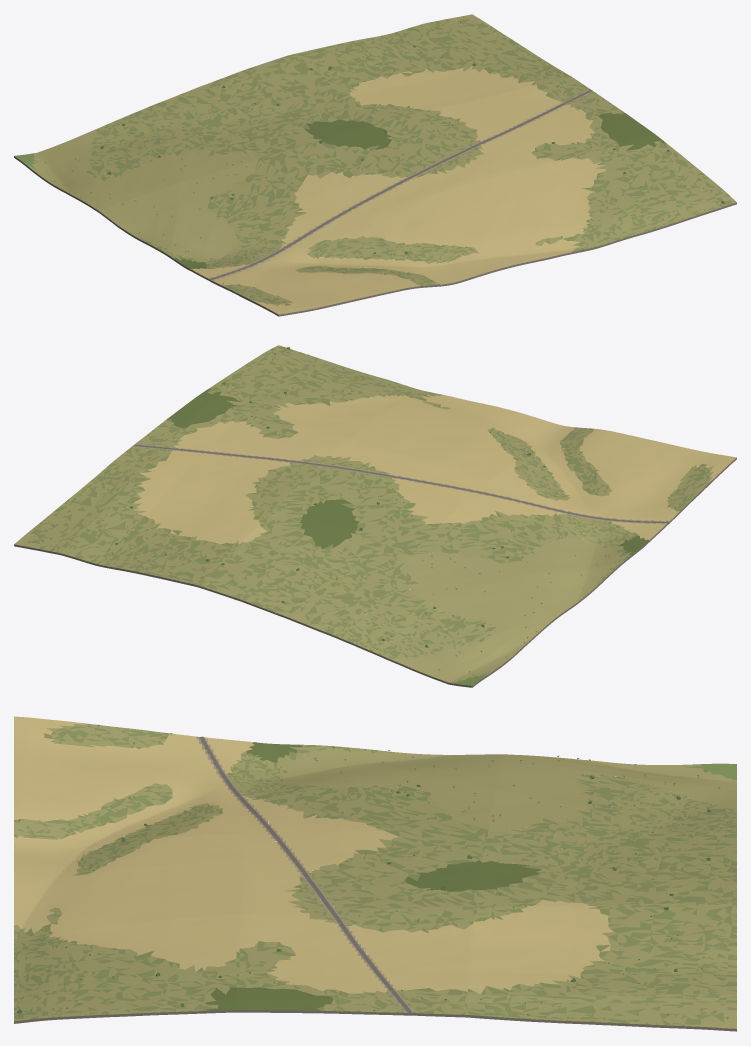
Rendered from parca_+1_-2-yakin.glb.
3 views of the same model, one above another, from view 1: azimuth 30°, elevation 25°; view 2: azimuth 150°, elevation 25°; view 3: azimuth 270°, elevation 25° (orthographic). The views are drawn at different scales.
Parts seen in each view (by area): view 1: parca_+1_-2_arazi, parca_+1_-2_yollar, parca_+1_-2_bitkiler; view 2: parca_+1_-2_arazi, parca_+1_-2_yollar, parca_+1_-2_bitkiler; view 3: parca_+1_-2_arazi, parca_+1_-2_yollar, parca_+1_-2_bitkiler.
Part boxes in pixels (<box>): parca_+1_-2_arazi: <box>14,14,736,316</box>; parca_+1_-2_yollar: <box>209,89,592,279</box>; parca_+1_-2_bitkiler: <box>35,17,724,296</box>; parca_+1_-2_arazi: <box>14,345,736,687</box>; parca_+1_-2_yollar: <box>133,444,668,523</box>; parca_+1_-2_bitkiler: <box>28,347,703,675</box>; parca_+1_-2_arazi: <box>14,716,736,1031</box>; parca_+1_-2_yollar: <box>199,736,412,1012</box>; parca_+1_-2_bitkiler: <box>14,724,734,1019</box>.
Size of the model in its own units: 1002 by 104 by 1000.
